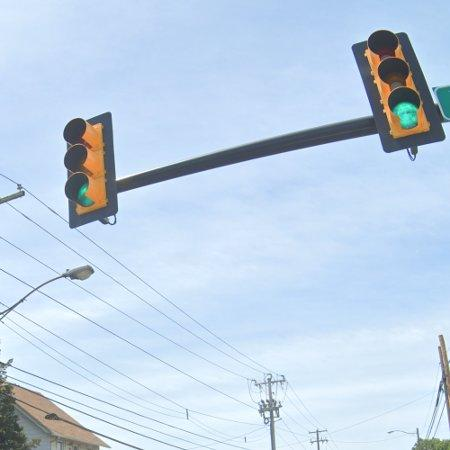traffic lights: (359, 30, 444, 158), (63, 108, 117, 233)
